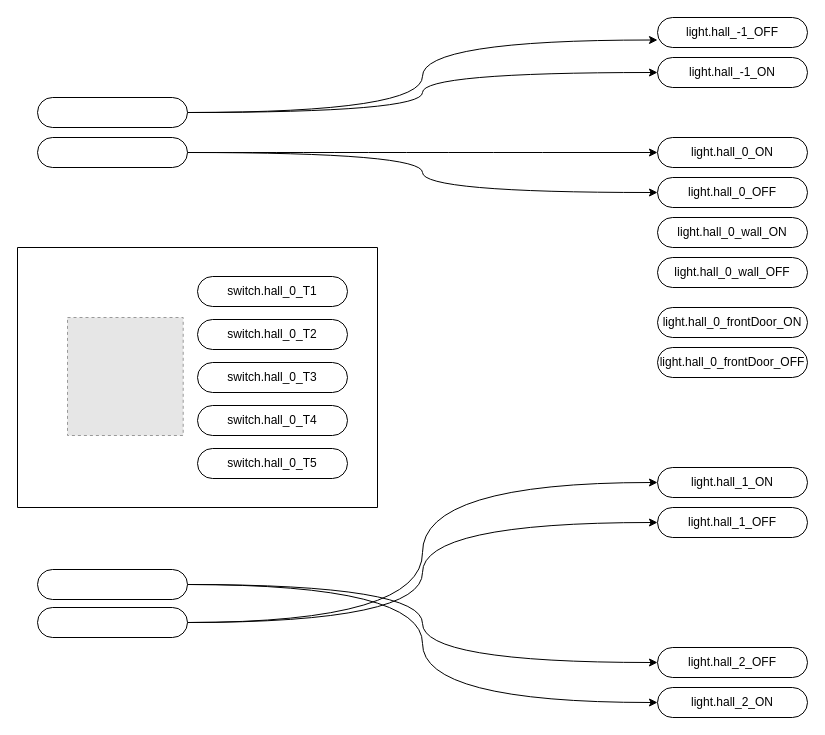
Some shapes in this 825 by 735 pixel diagram are drawn without their labels. Grey dashed boxes stand in for pictures. The shapes that lost their labels are listed below. From the top down, each one's box as (x1, y1, x2, y2) in pixels, then its label:
(36, 96, 188, 128): switch_hall_0_frontDoor1
(36, 136, 188, 168): switch_hall_0_frontDoor2
(16, 246, 378, 508): Touch Tree
(36, 568, 188, 600): switch_hall_2_1
(36, 606, 188, 638): switch_hall_2_2
